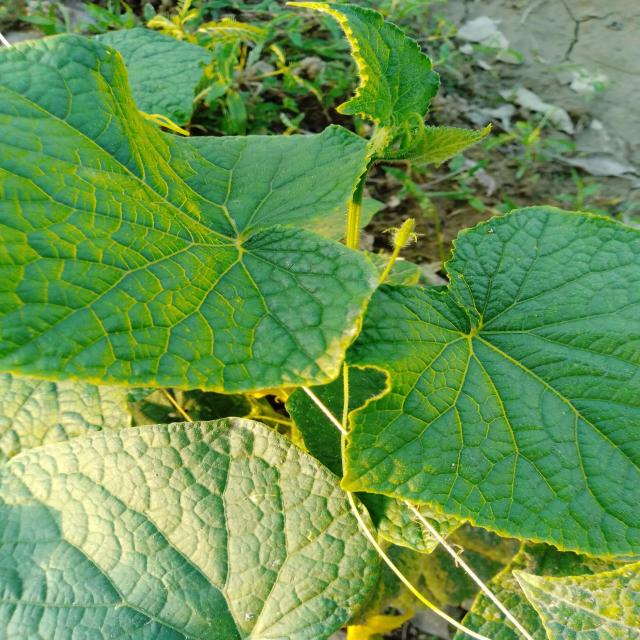cucumber_healthy: (0, 29, 380, 397), (339, 200, 640, 564), (0, 410, 382, 640), (286, 0, 498, 173)
